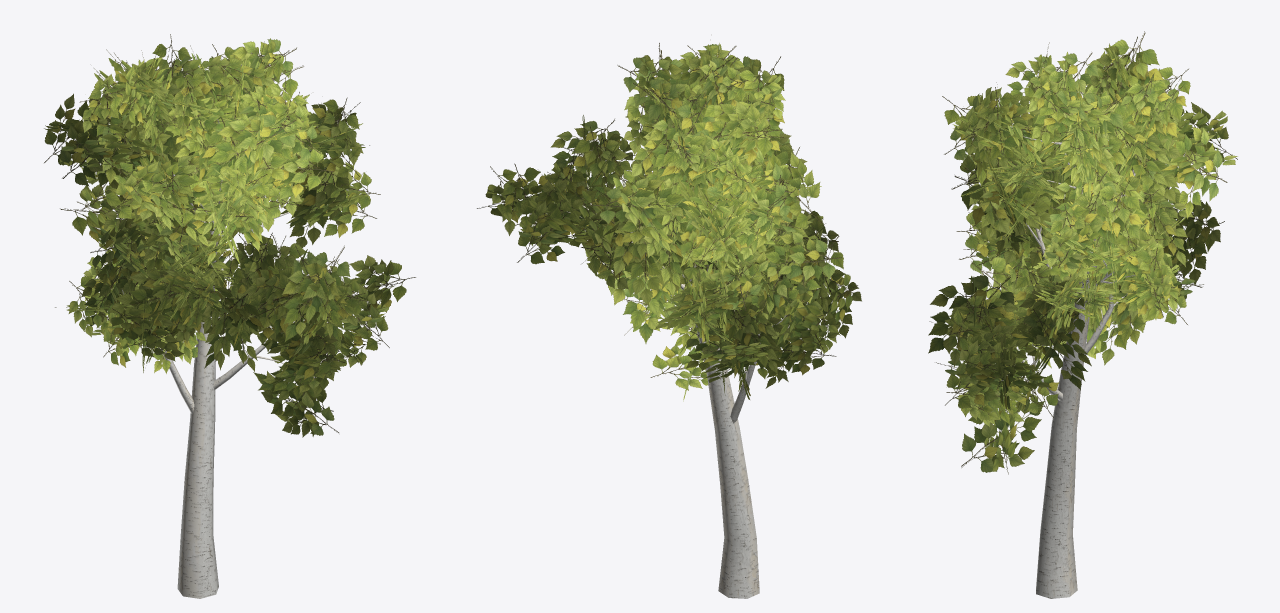
Rendered from nature-white-silver-birch_v2.glb.
The picture shows the model from 3 angles, left to right: view 1: azimuth 30°, elevation 25°; view 2: azimuth 150°, elevation 25°; view 3: azimuth 270°, elevation 25°; orthographic projection. The views are drawn at different scales.
Visible parts, largest first — view 1: nature-white-silver-birch; view 2: nature-white-silver-birch; view 3: nature-white-silver-birch.
Part boxes in pixels (x1,y1,x2,y2): nature-white-silver-birch: (44, 34, 415, 598); nature-white-silver-birch: (477, 43, 861, 598); nature-white-silver-birch: (928, 31, 1237, 598).
Bounding box in the file's own units: 5.24 × 7.88 × 4.47.
Materials: 2 (2 with a texture image).
